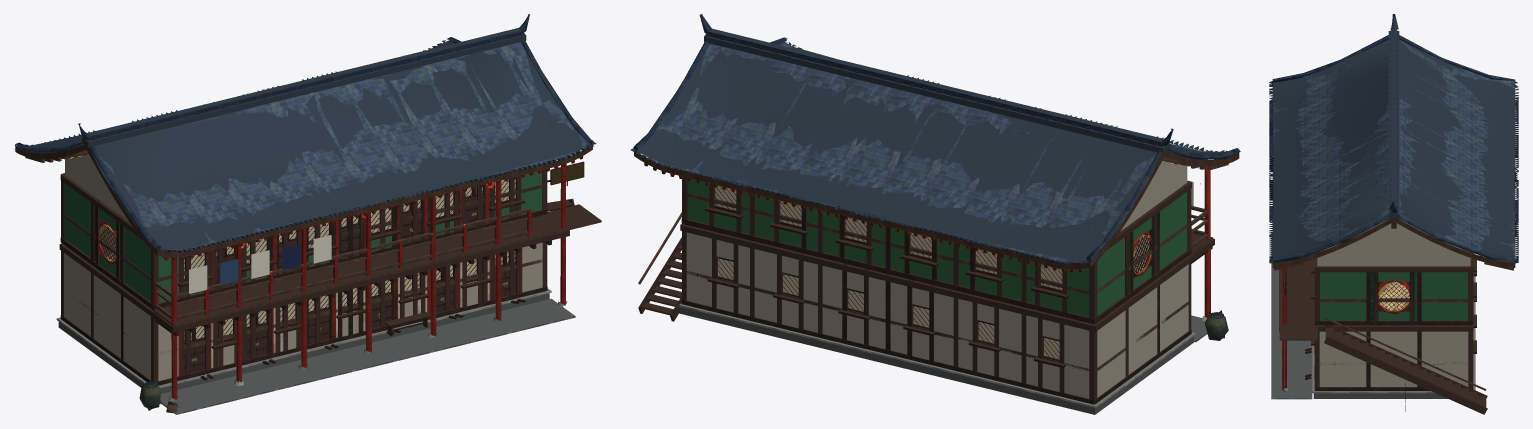
File: prop_academy_dorm.gltf
The picture shows the model from 3 angles, left to right: view 1: azimuth 30°, elevation 25°; view 2: azimuth 150°, elevation 25°; view 3: azimuth 270°, elevation 25°; orthographic projection. The views are drawn at different scales.
Parts seen in each view (by area): view 1: Far, Near; view 2: Far, Near; view 3: Far, Near.
Boxes of the visible parts, box(x1,y1,x2,y2) form: Far: box(14, 16, 601, 413); Near: box(15, 14, 601, 414); Far: box(636, 15, 1238, 414); Near: box(630, 14, 1240, 407); Far: box(1271, 15, 1515, 414); Near: box(1269, 14, 1518, 411).
Bounding box in the file's own units: 17.62 × 9.15 × 9.76.
Materials: 27 (20 with a texture image).
